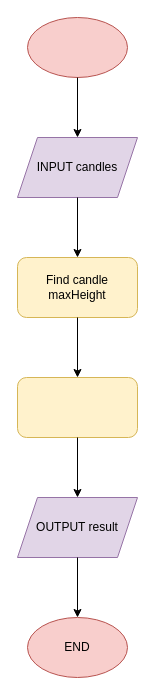
Some shapes in this 155 by 695 pixel diagram are drawn without their labels. The centre of each missing label's shape, as x and y in pixels:
"Count candle = maxHeight" belongs at (77,407).
"START" belongs at (77,47).
